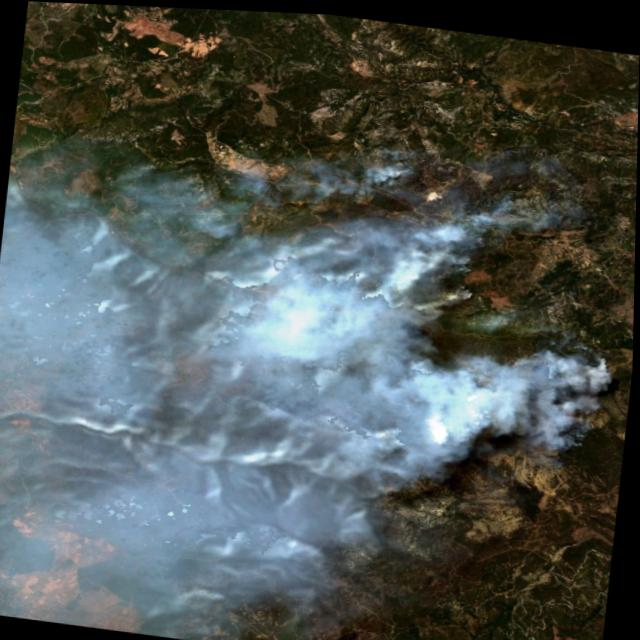fire: (317, 119, 638, 478)
